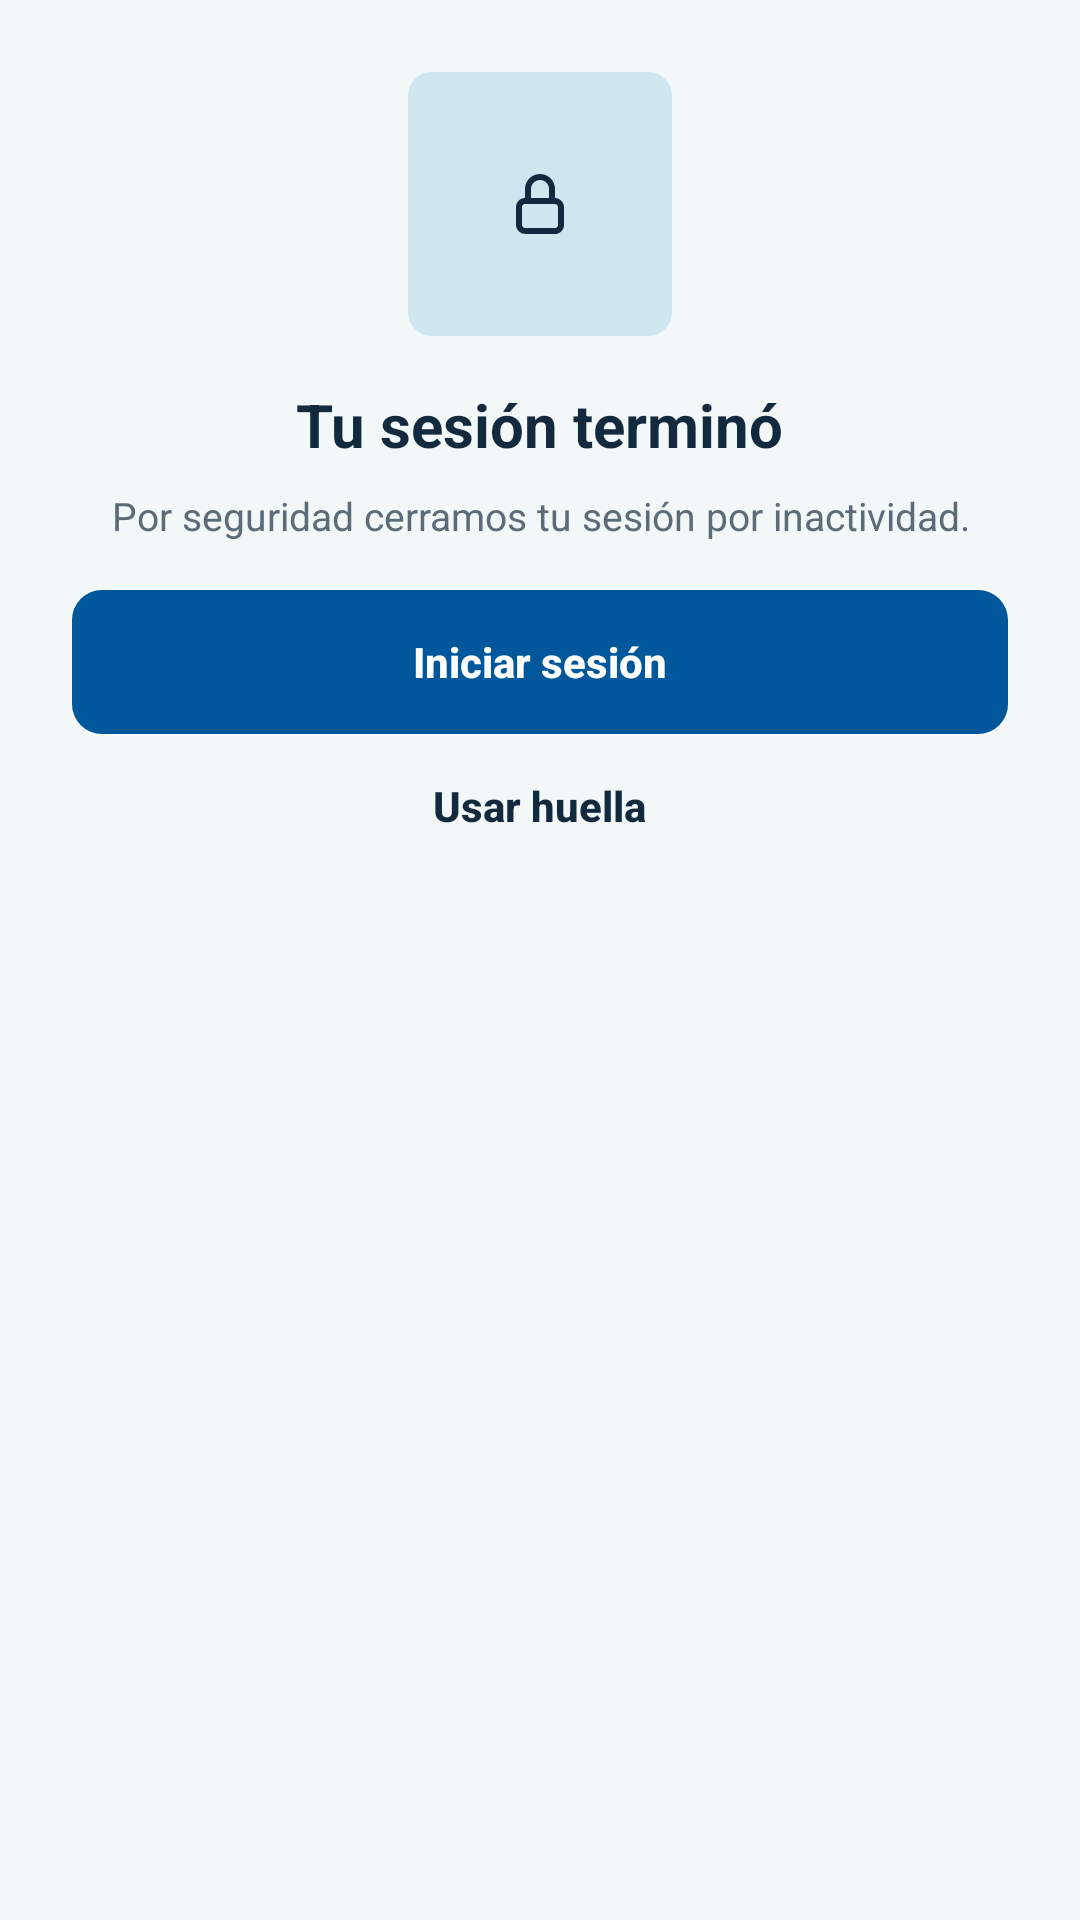

Screen size 1080×1920. Icon name, then its box in pixels as (x1,y1,x2,y2):
candado: (408,72,672,336)
